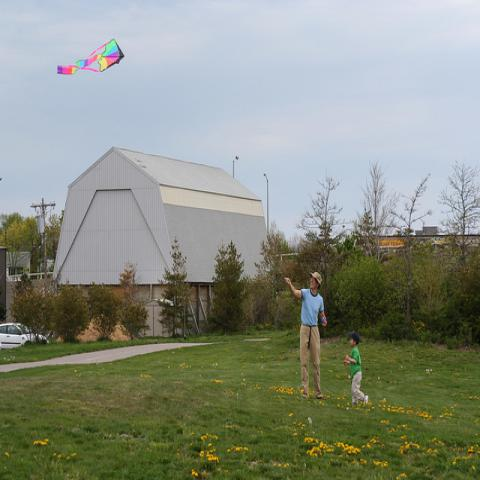car: (0, 322, 47, 350)
